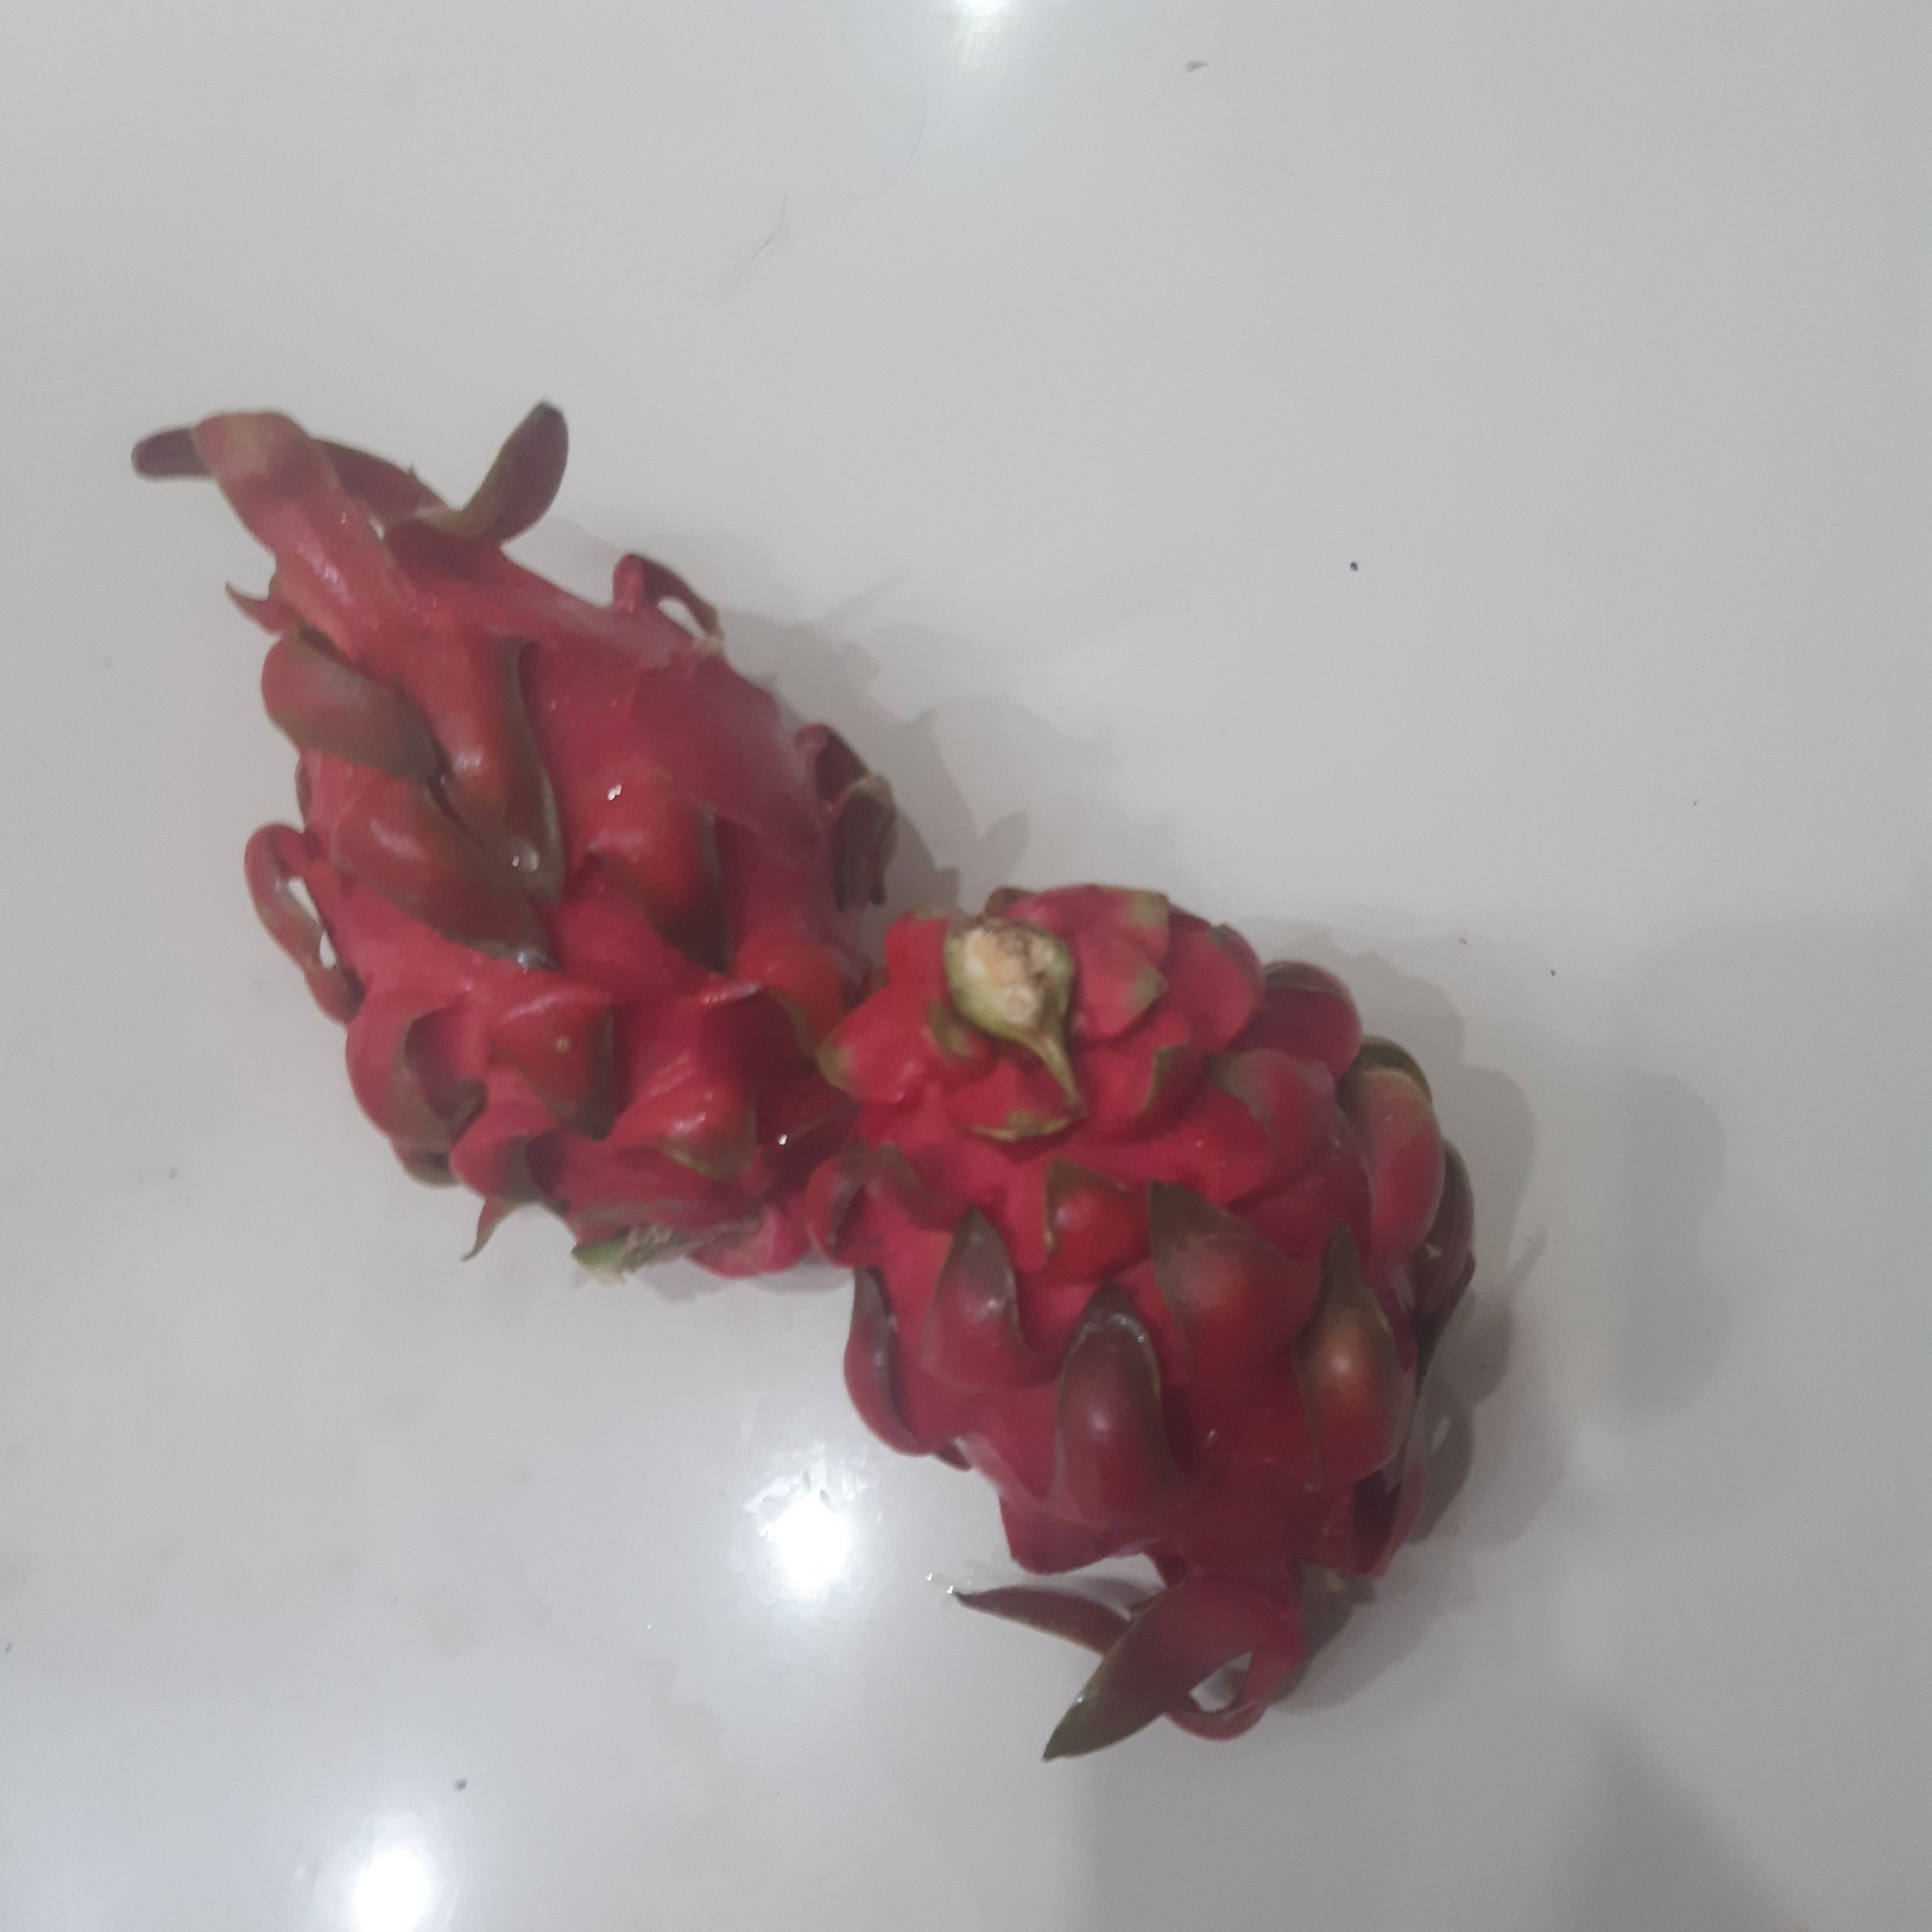Thanh long: (264, 541, 925, 1285), (852, 893, 1480, 1627)
